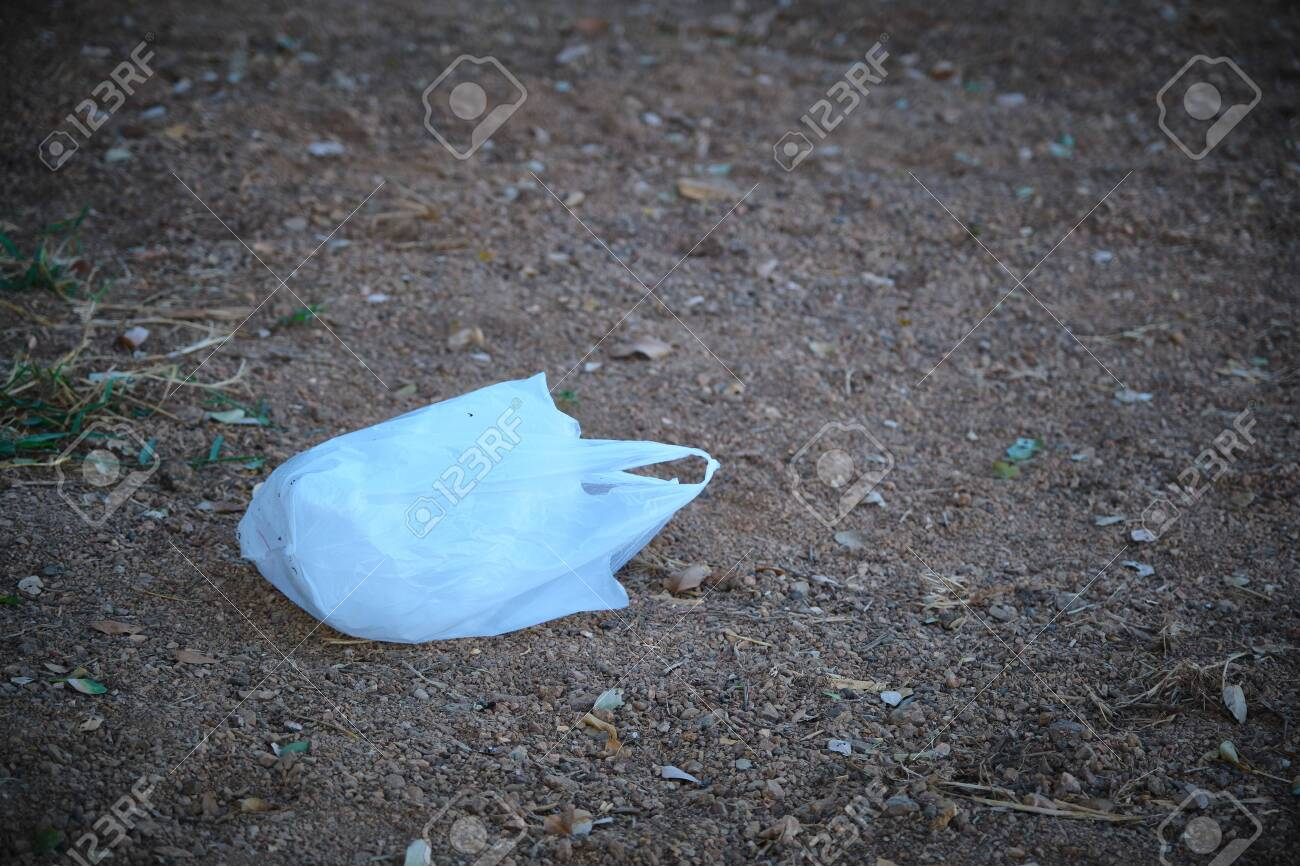plastic_bag: (235, 366, 724, 650)
